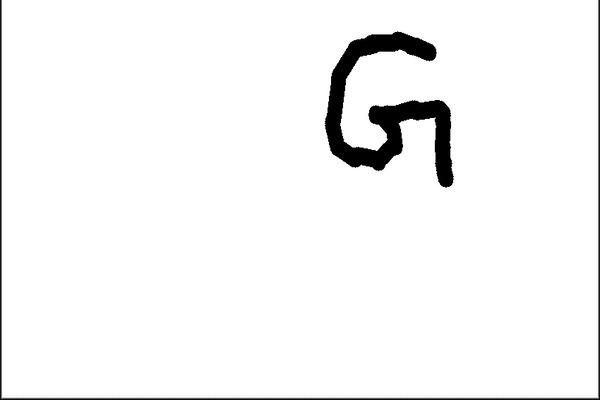G: (319, 28, 460, 190)
